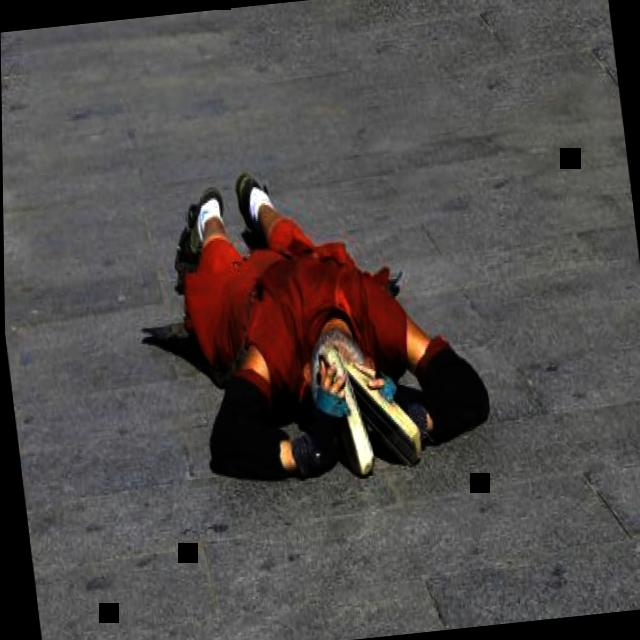Fall-Detected: (133, 108, 498, 515)
